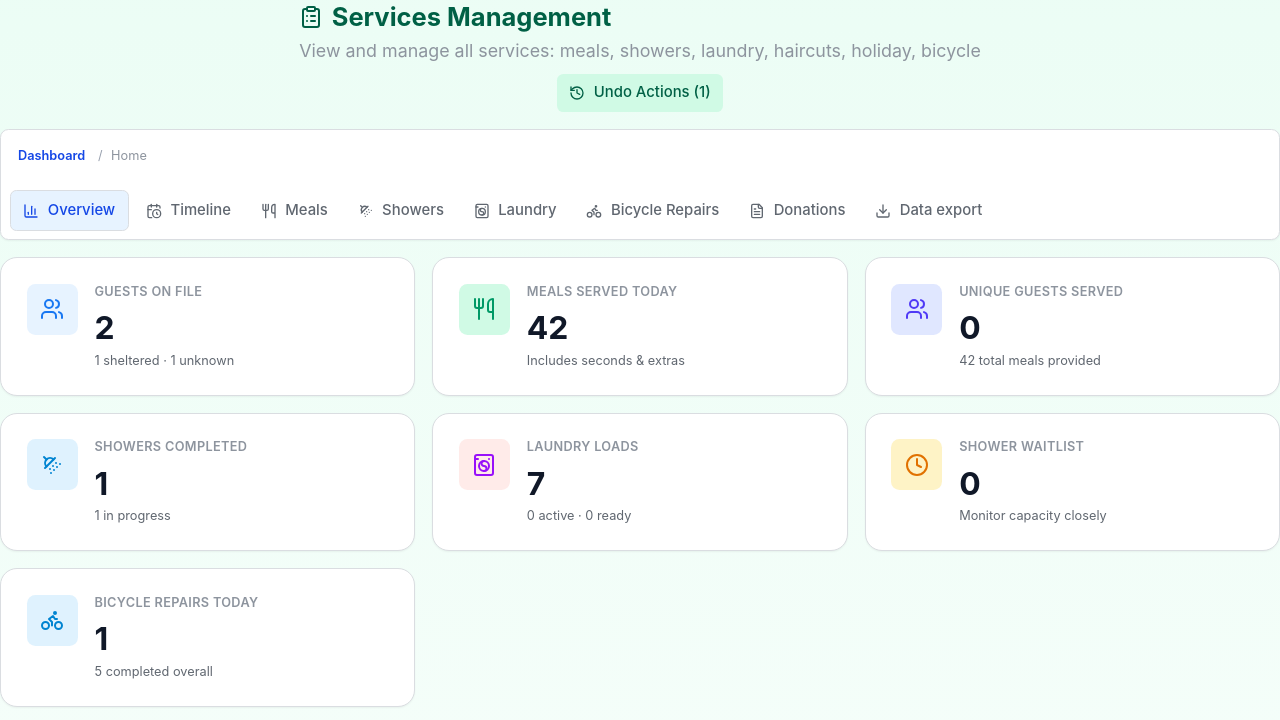
Scenario: Services page › navigates to showers via the timeline quick add control
The width and height of the screenshot is (1280, 720).
Click the button "Timeline".
click(188, 211)  # box [133,190,244,231]
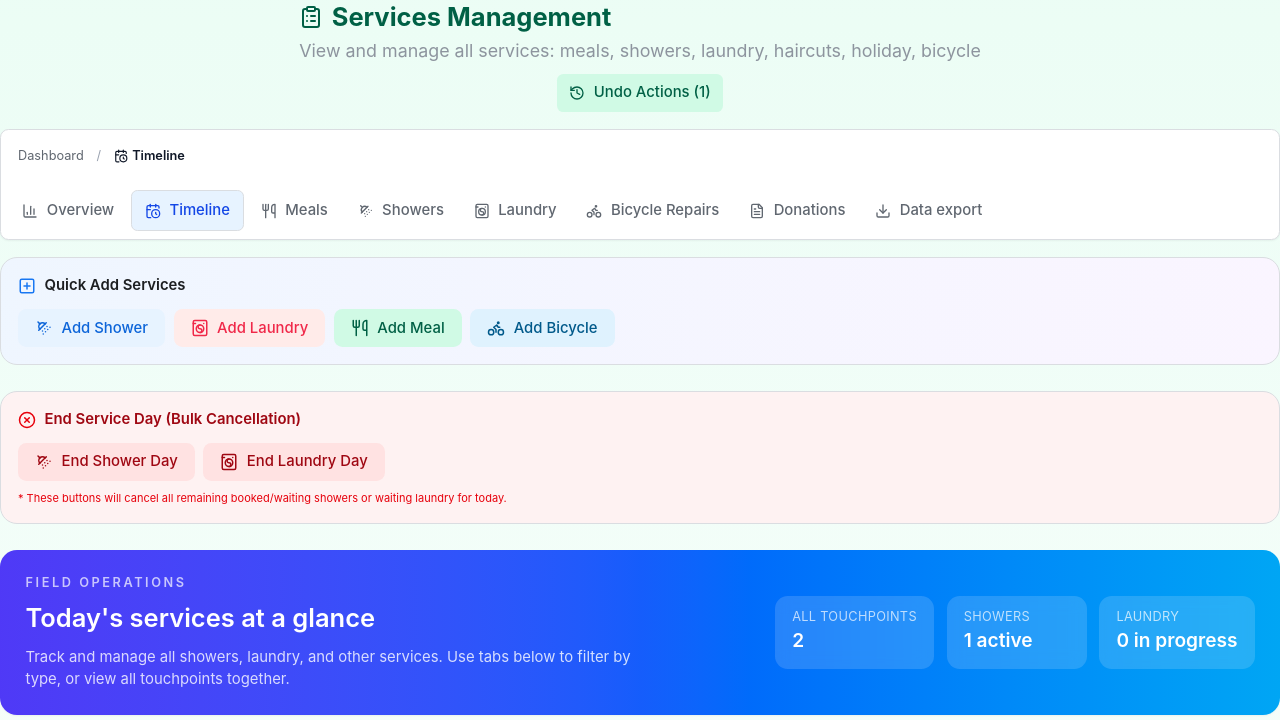
Click the button "Add Shower".
click(92, 328)  # box [18,309,165,348]
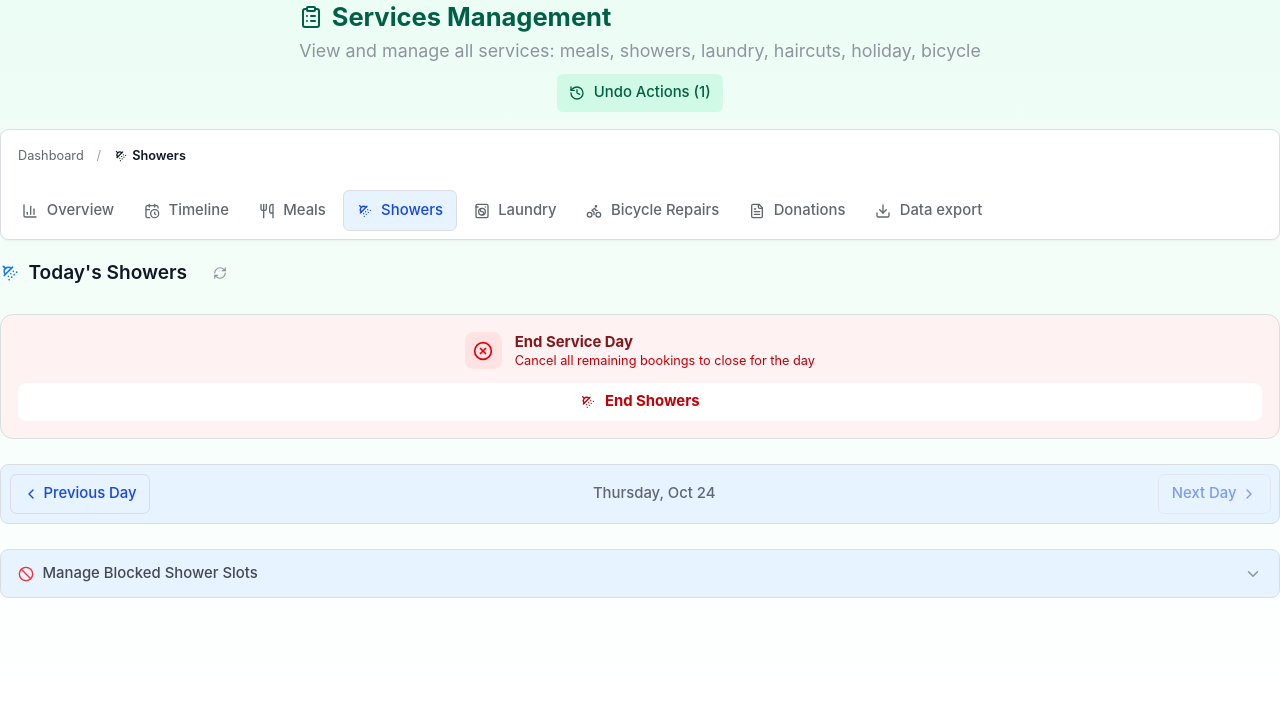
Result: the text "Today's Showers" is shown at [28,258,187,288]
